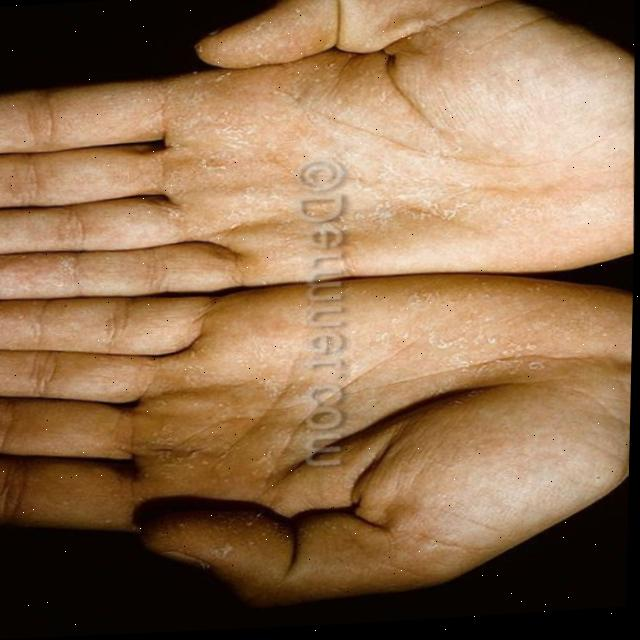Eczema: (179, 59, 498, 270), (148, 397, 352, 565), (378, 285, 543, 379)
